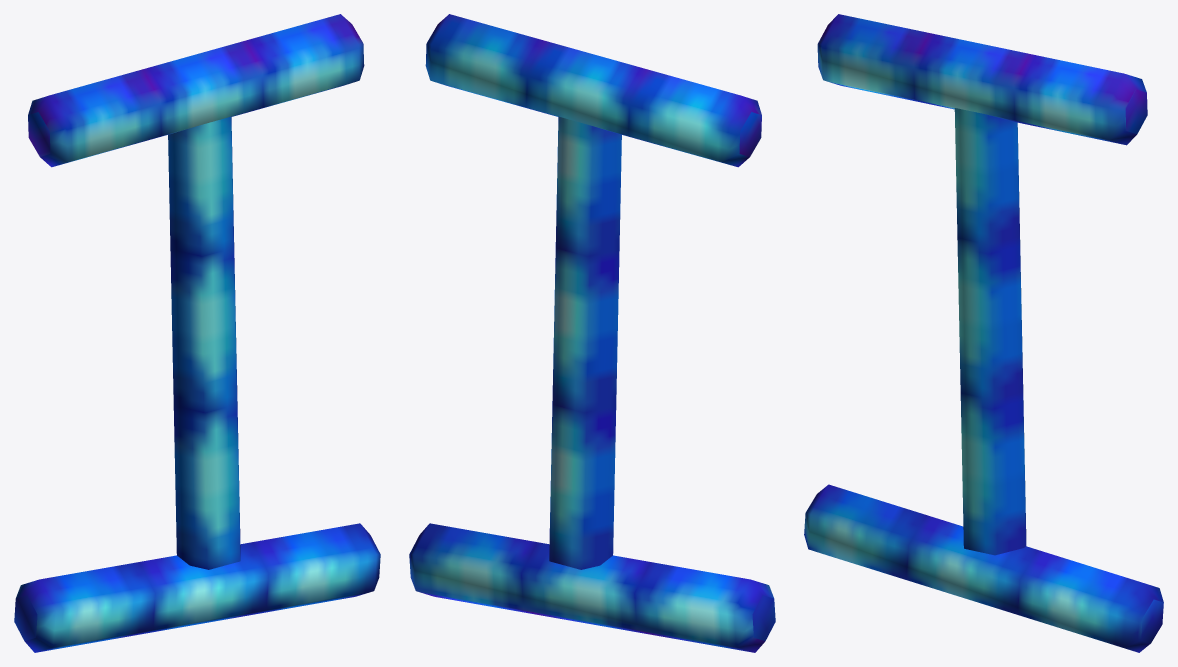
Rendered from furni_0200183.FBX.
3 renders of one model, left to right at view 1: azimuth 30°, elevation 25°; view 2: azimuth 150°, elevation 25°; view 3: azimuth 330°, elevation 25°, orthographic.
Parts seen in each view (by area): view 1: furni_0200183; view 2: furni_0200183; view 3: furni_0200183.
Part boxes in pixels (x1,y1,x2,y2): furni_0200183: [14, 14, 380, 652]; furni_0200183: [409, 14, 775, 652]; furni_0200183: [804, 14, 1163, 652].
Bounding box in the file's own units: 35.78 × 57.94 × 6.21.
